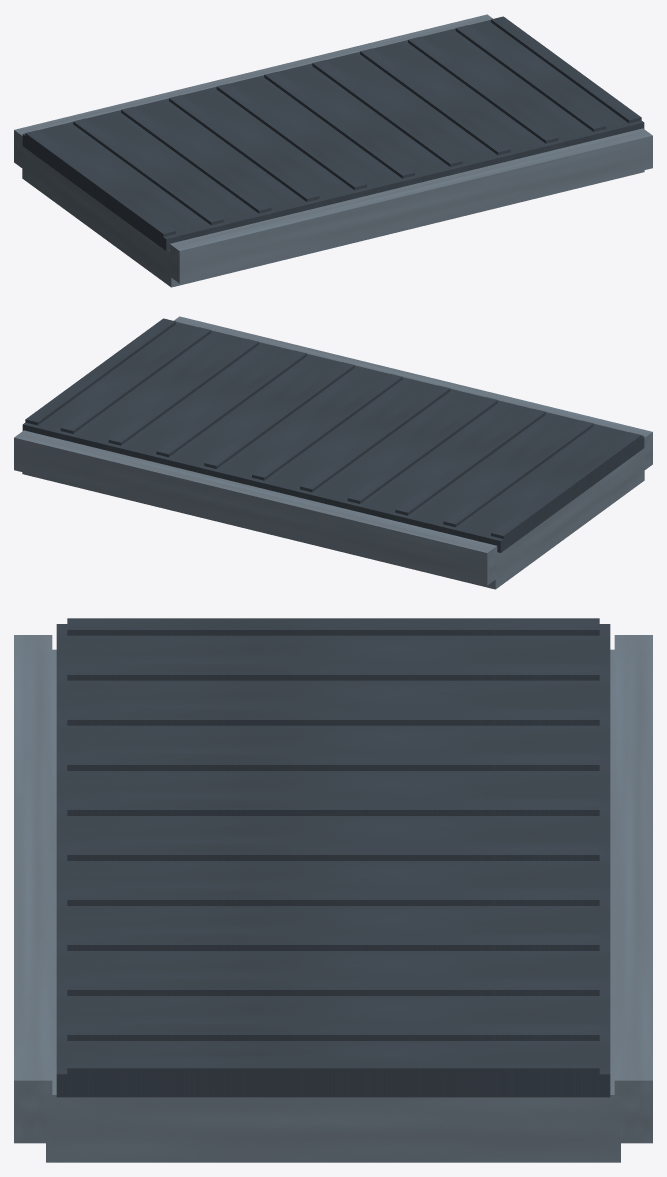
File: conveyor-02.glb
The picture shows the model from 3 angles, top to bottom: view 1: azimuth 30°, elevation 25°; view 2: azimuth 150°, elevation 25°; view 3: azimuth 270°, elevation 25°; orthographic projection. The views are drawn at different scales.
Visible parts, largest first — view 1: belt-surface, frame; view 2: belt-surface, frame; view 3: belt-surface, frame.
Boxes of the visible parts, x1=… form: belt-surface: x1=22, y1=16, x2=644, y2=250; frame: x1=14, y1=14, x2=652, y2=287; belt-surface: x1=22, y1=318, x2=644, y2=552; frame: x1=14, y1=316, x2=652, y2=589; belt-surface: x1=56, y1=618, x2=610, y2=1097; frame: x1=14, y1=635, x2=652, y2=1162.
Size of the model in its own units: 1 by 0.1 by 0.6.
Materials: 2 (2 with a texture image).
